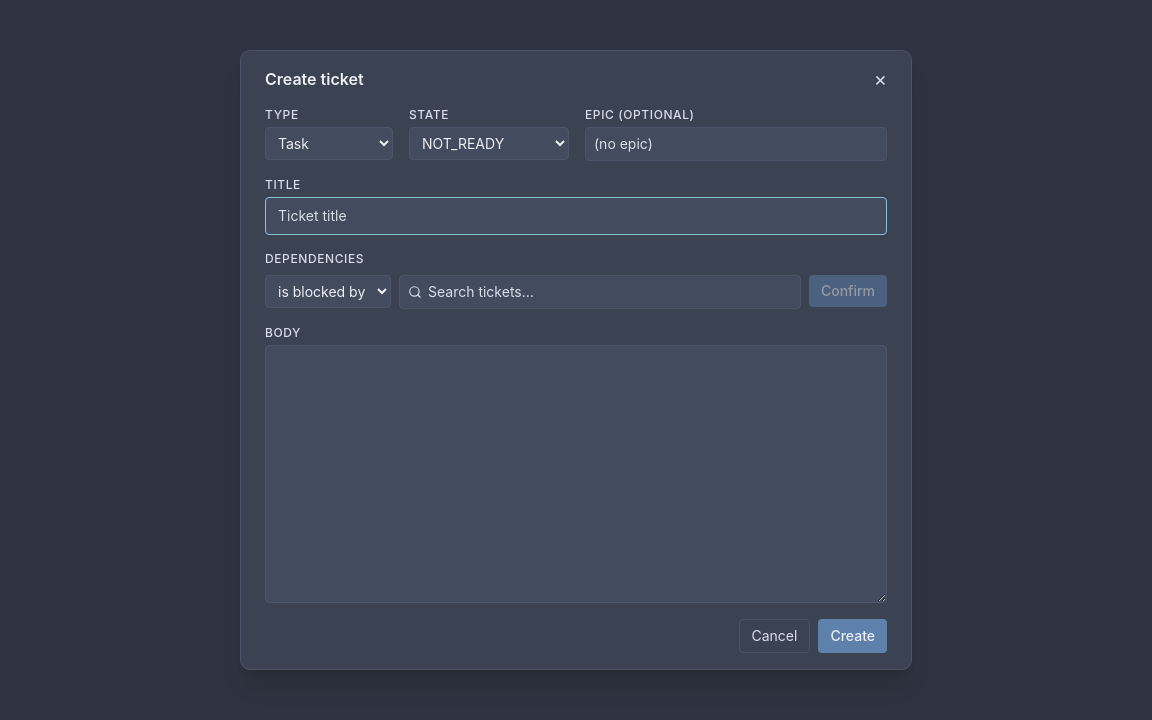
it: CreateTicketModal › should reset all fields when cancelled
Step 1. Type "my title" into the field labelled "Title" → (576, 216), box [265,197,887,235]
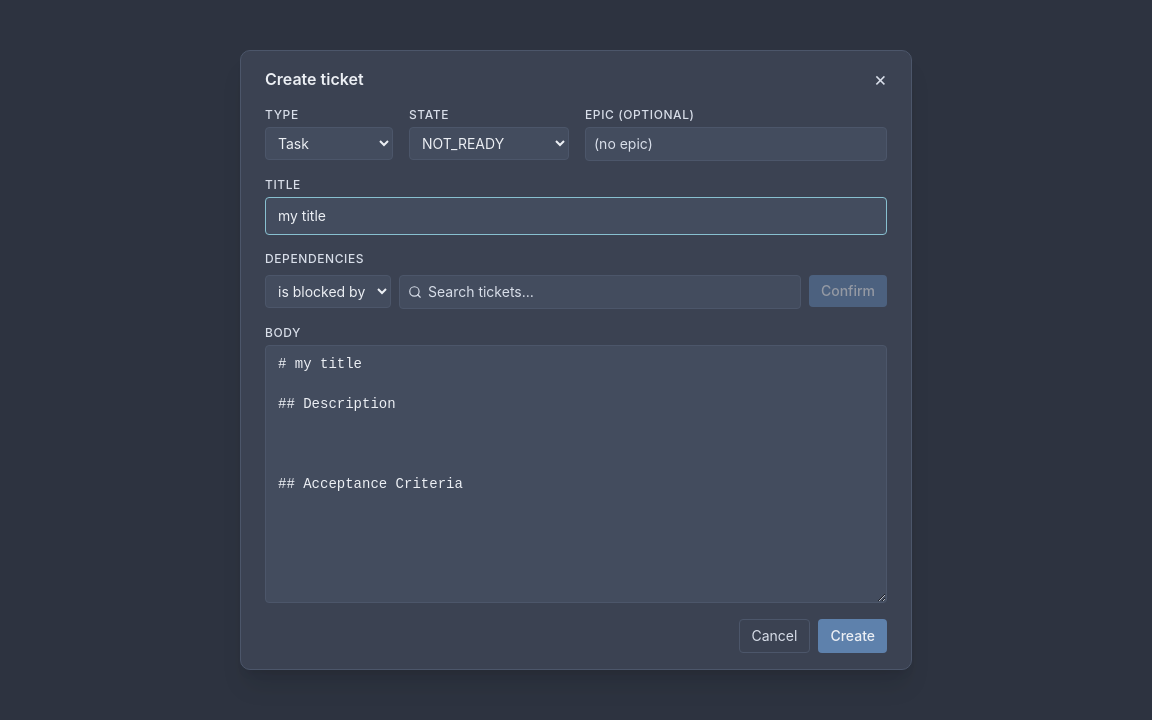
Step 2. Click the button "Cancel" → (774, 636), box [738,619,810,653]
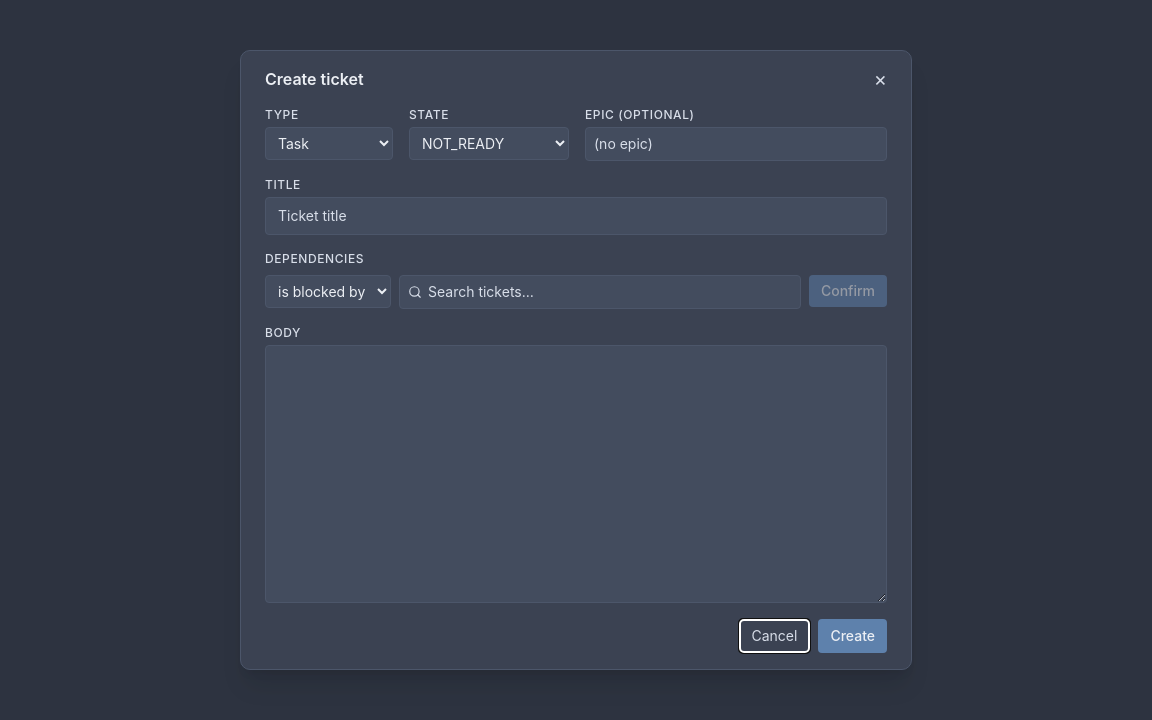
Expected: the field labelled "Title" is empty, [265,197,887,235]
